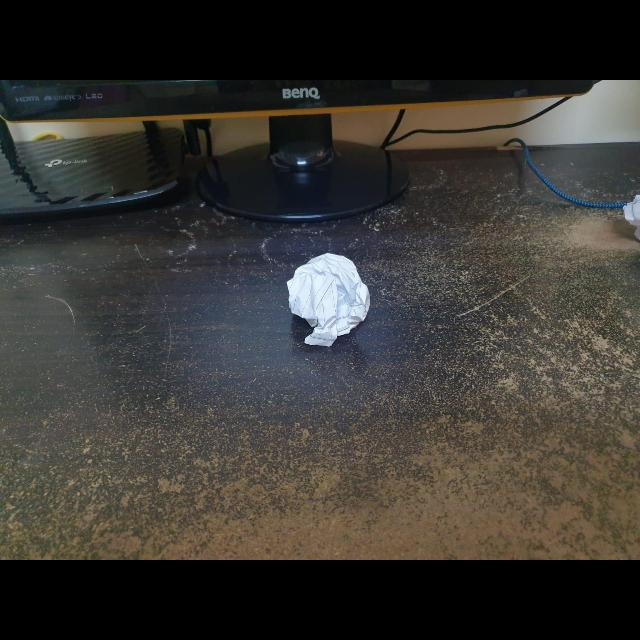trash: (288, 252, 374, 350)
